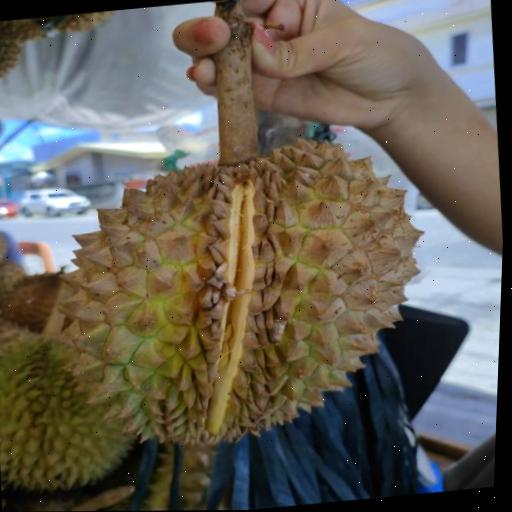rot: (0, 80, 460, 491)
